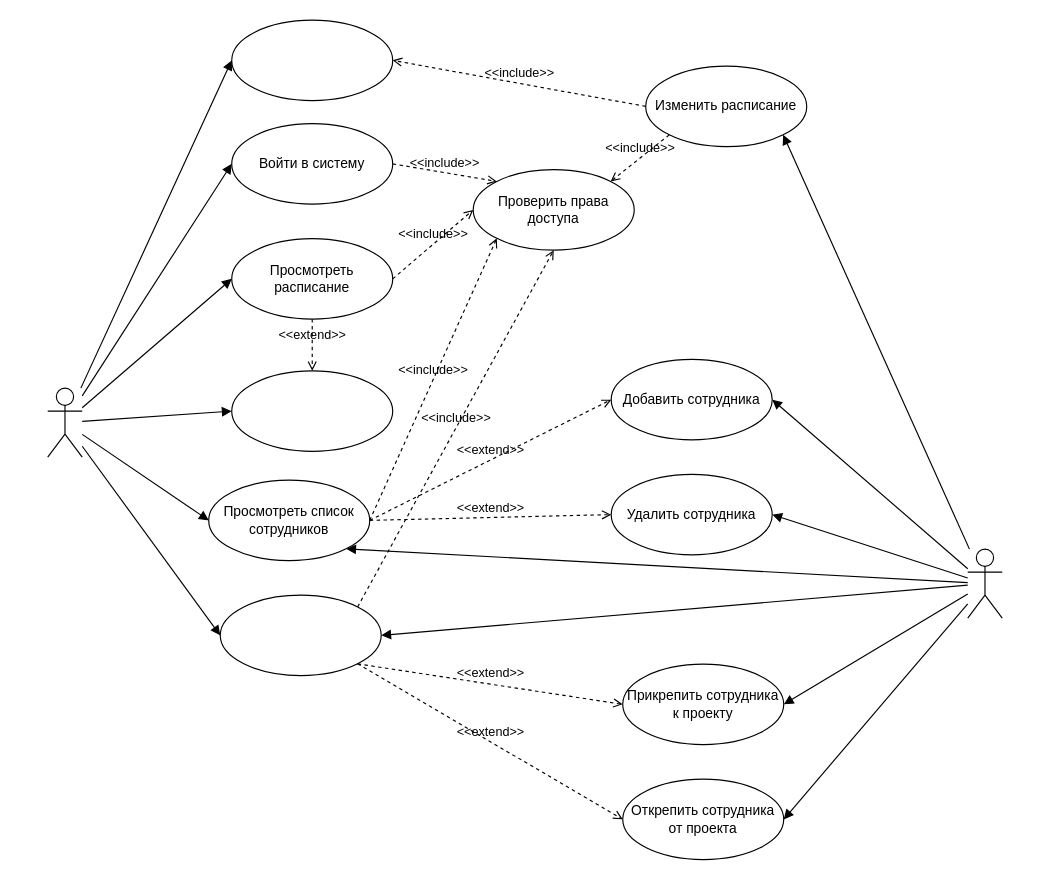
This 1055x880 diagram has some shape labels left out. The shapes that lost their labels are listed below. From the top down, each one's centre as x and y in pixels, then its label:
At (312,60): "Изменить расписание активного пользователя".
At (64,422): "Пользователь".
At (312,410): "Получить данные по указанной неделе".
At (984,583): "Администратор".
At (300,635): "Просмотреть список проектов".
